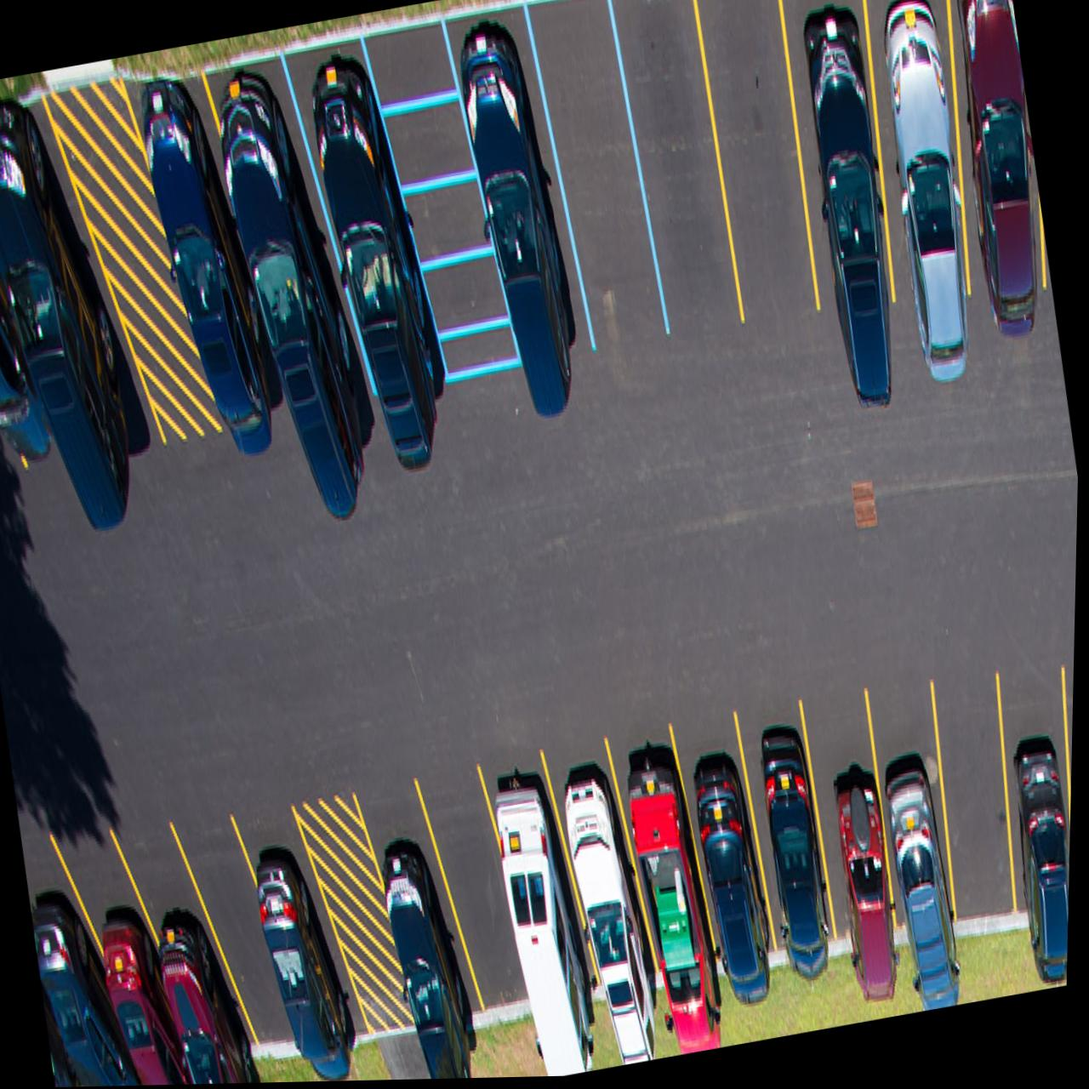cars: (219, 45, 376, 512), (0, 63, 151, 538), (143, 50, 302, 486), (290, 10, 442, 440), (449, 0, 596, 399), (764, 0, 919, 367), (843, 0, 998, 355), (115, 766, 265, 1086), (234, 736, 369, 1083), (925, 0, 1064, 336), (354, 753, 493, 1081), (67, 796, 208, 1087), (537, 701, 663, 1012), (479, 726, 600, 1042), (605, 717, 723, 1033), (668, 705, 784, 1014), (857, 678, 971, 981), (728, 694, 844, 978), (20, 815, 137, 1088), (800, 696, 910, 985), (980, 643, 1074, 977), (0, 98, 72, 506)
empty: (685, 0, 827, 350), (530, 0, 667, 352), (607, 0, 750, 333), (166, 764, 311, 1085), (409, 715, 545, 1054), (919, 659, 1034, 937)
